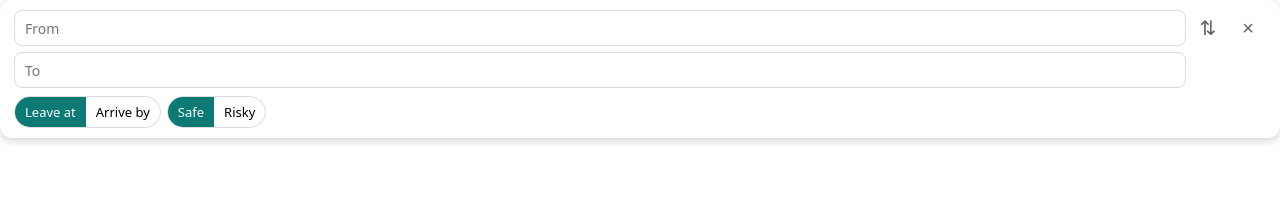
TripSearch › a location fix that arrives late › is ignored once another place was chosen for the field
The image size is (1280, 203).
Click the field labelled "From" at {"x": 600, "y": 28}, box x1=14 y1=10 x2=1186 y2=46
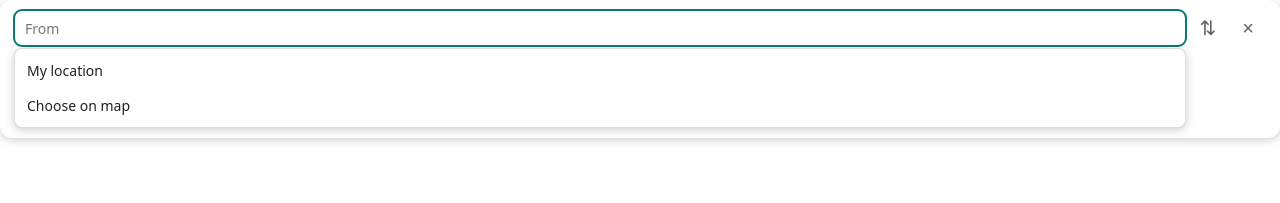
Click the option "My location" at {"x": 65, "y": 70}, box x1=27 y1=61 x2=103 y2=80
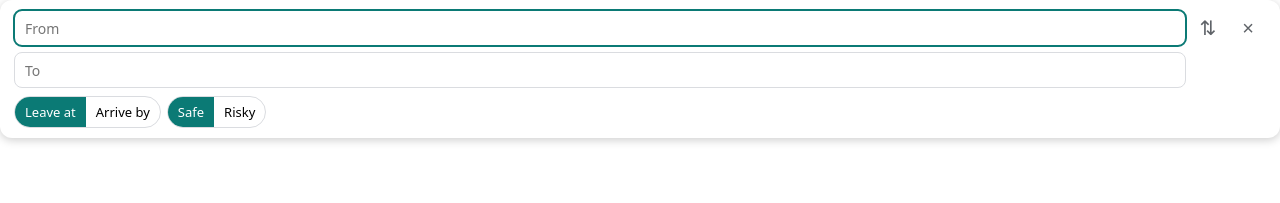
Type "kongres" into the field labelled "From" at {"x": 600, "y": 28}, box x1=14 y1=10 x2=1186 y2=46
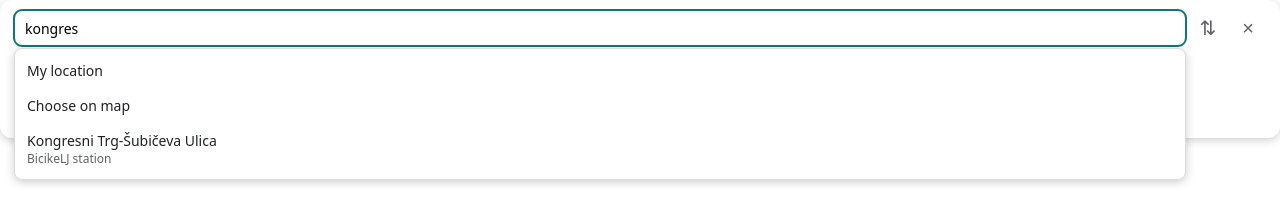
Click the option "Kongresni Trg-Šubičeva Ulica BicikeLJ station" at {"x": 122, "y": 149}, box x1=27 y1=131 x2=217 y2=167
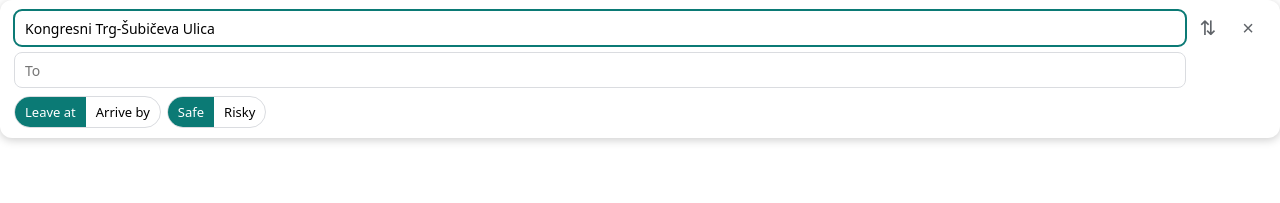
Check: the field named "From" holds "Kongresni Trg-Šubičeva Ulica", box x1=14 y1=10 x2=1186 y2=46
